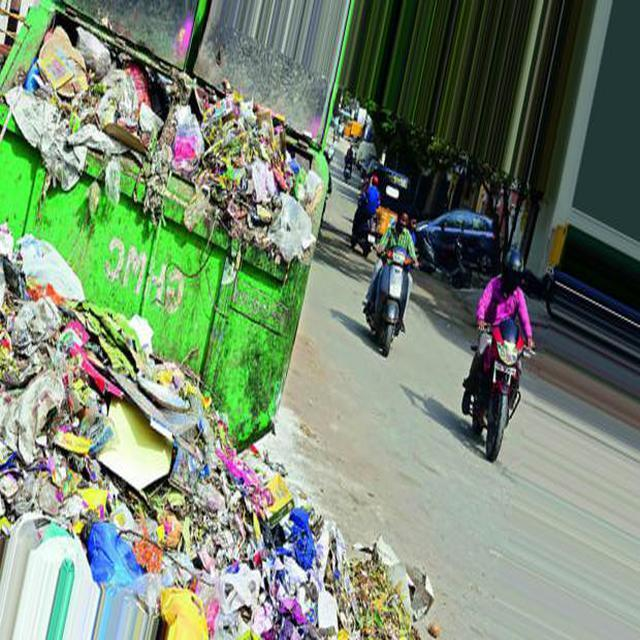garbage: (0, 293, 214, 636), (21, 27, 309, 253), (157, 478, 442, 640)
